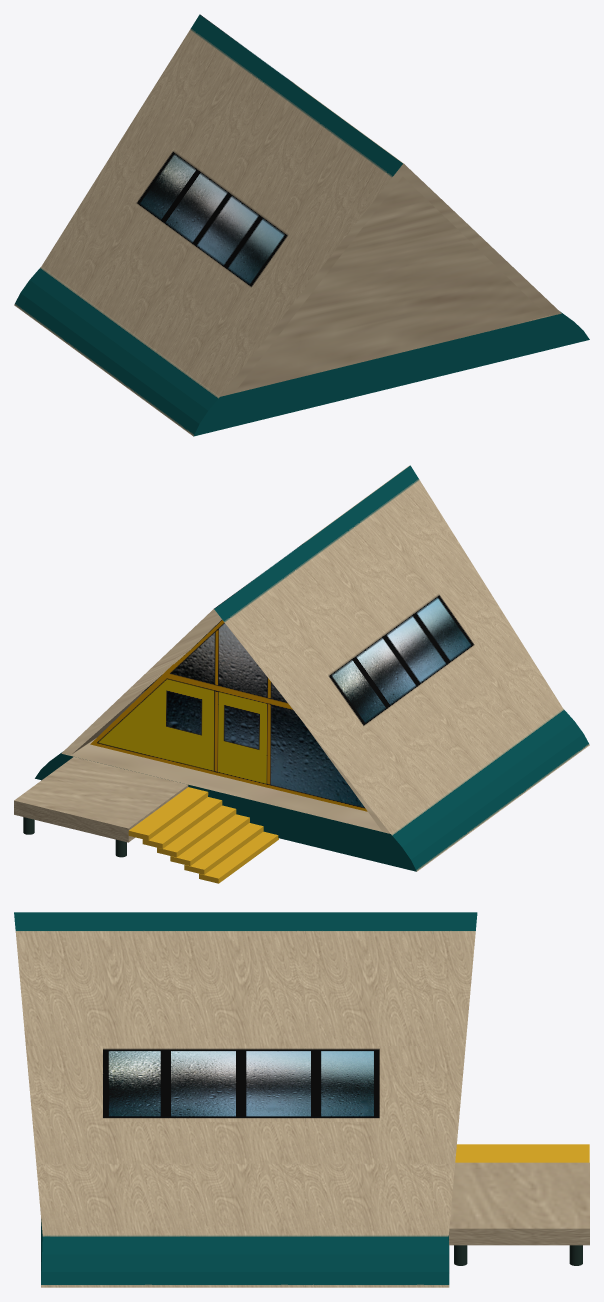
Rendered from Tiny-House-02.glb.
The picture shows the model from 3 angles, top to bottom: view 1: azimuth 30°, elevation 25°; view 2: azimuth 150°, elevation 25°; view 3: azimuth 270°, elevation 25°; orthographic projection. The views are drawn at different scales.
Visible parts, largest first — view 1: Cube.002; view 2: Cube.002, Cube, Cube.001, Cube.008, Cube.003, Cube.007, Cube.006, Cube.004, Cube.005; view 3: Cube.002, Cube.001, Cube.008.
Part boxes in pixels (box(x1,y1,x2,y2)): Cube.002: box(14, 14, 589, 436); Cube.002: box(35, 465, 589, 871); Cube: box(90, 620, 367, 811); Cube.001: box(14, 757, 188, 842); Cube.008: box(128, 787, 208, 840); Cube.003: box(199, 831, 278, 883); Cube.007: box(142, 797, 222, 848); Cube.006: box(157, 805, 236, 857); Cube.004: box(184, 823, 263, 874); Cube.005: box(170, 814, 249, 865); Cube.002: box(14, 912, 477, 1287); Cube.001: box(449, 1162, 589, 1245); Cube.008: box(455, 1154, 589, 1162).
Bounding box in the file's own units: 11.6 × 6.6 × 12.83.
Materials: 4 (2 with a texture image).
